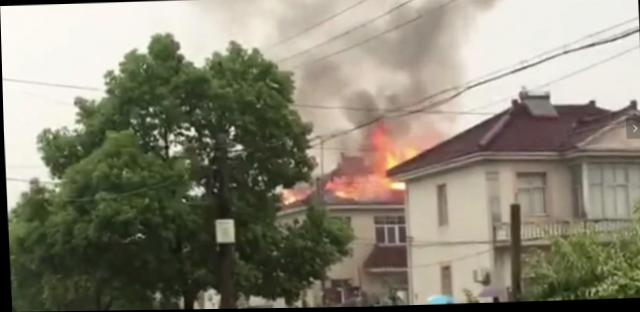fire: (330, 177, 370, 202), (372, 132, 393, 166), (391, 144, 414, 161), (385, 180, 403, 190)
